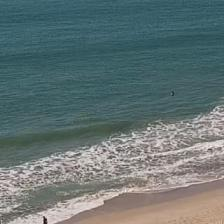surfer: (172, 91, 174, 95)
